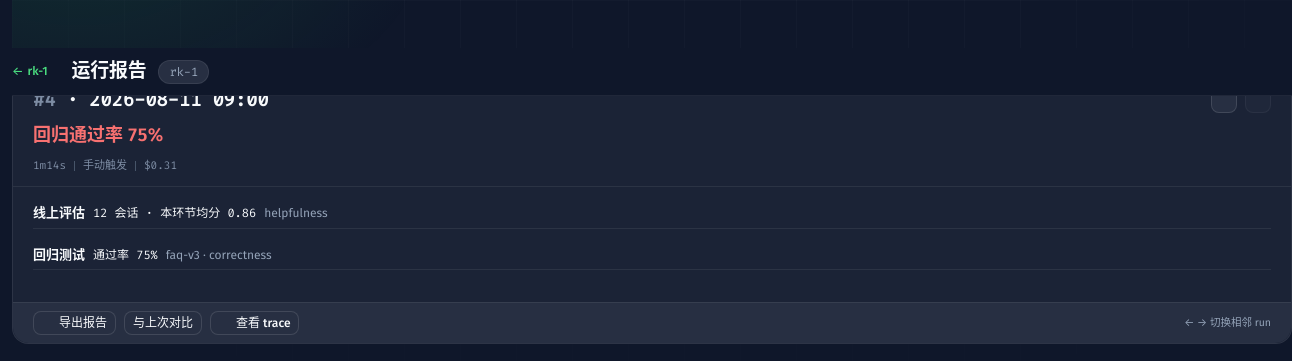
运行报告（独立页 #/report/<run_key>） › 导出报告 › 导出失败：可感知错误（错误行 + 按钮恢复可点，不静默）
Expected: the element with test id "report-drawer-head" is shown, [13,69,1291,187]
Click the button with test id "report-drawer-export": (74, 323) [33,311,116,335]
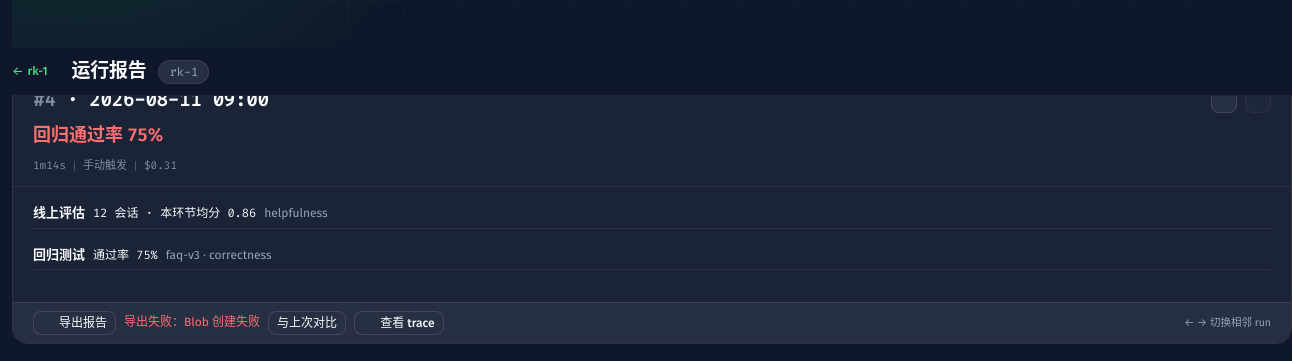
Now the text with test id "report-drawer-export-error" reads "导出失败：Blob 创建失败", box [124,313,260,332]
